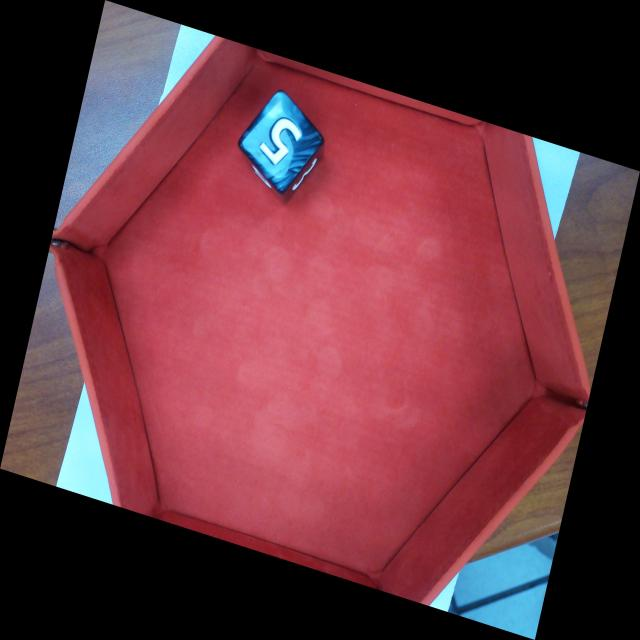dice: (238, 88, 326, 194)
